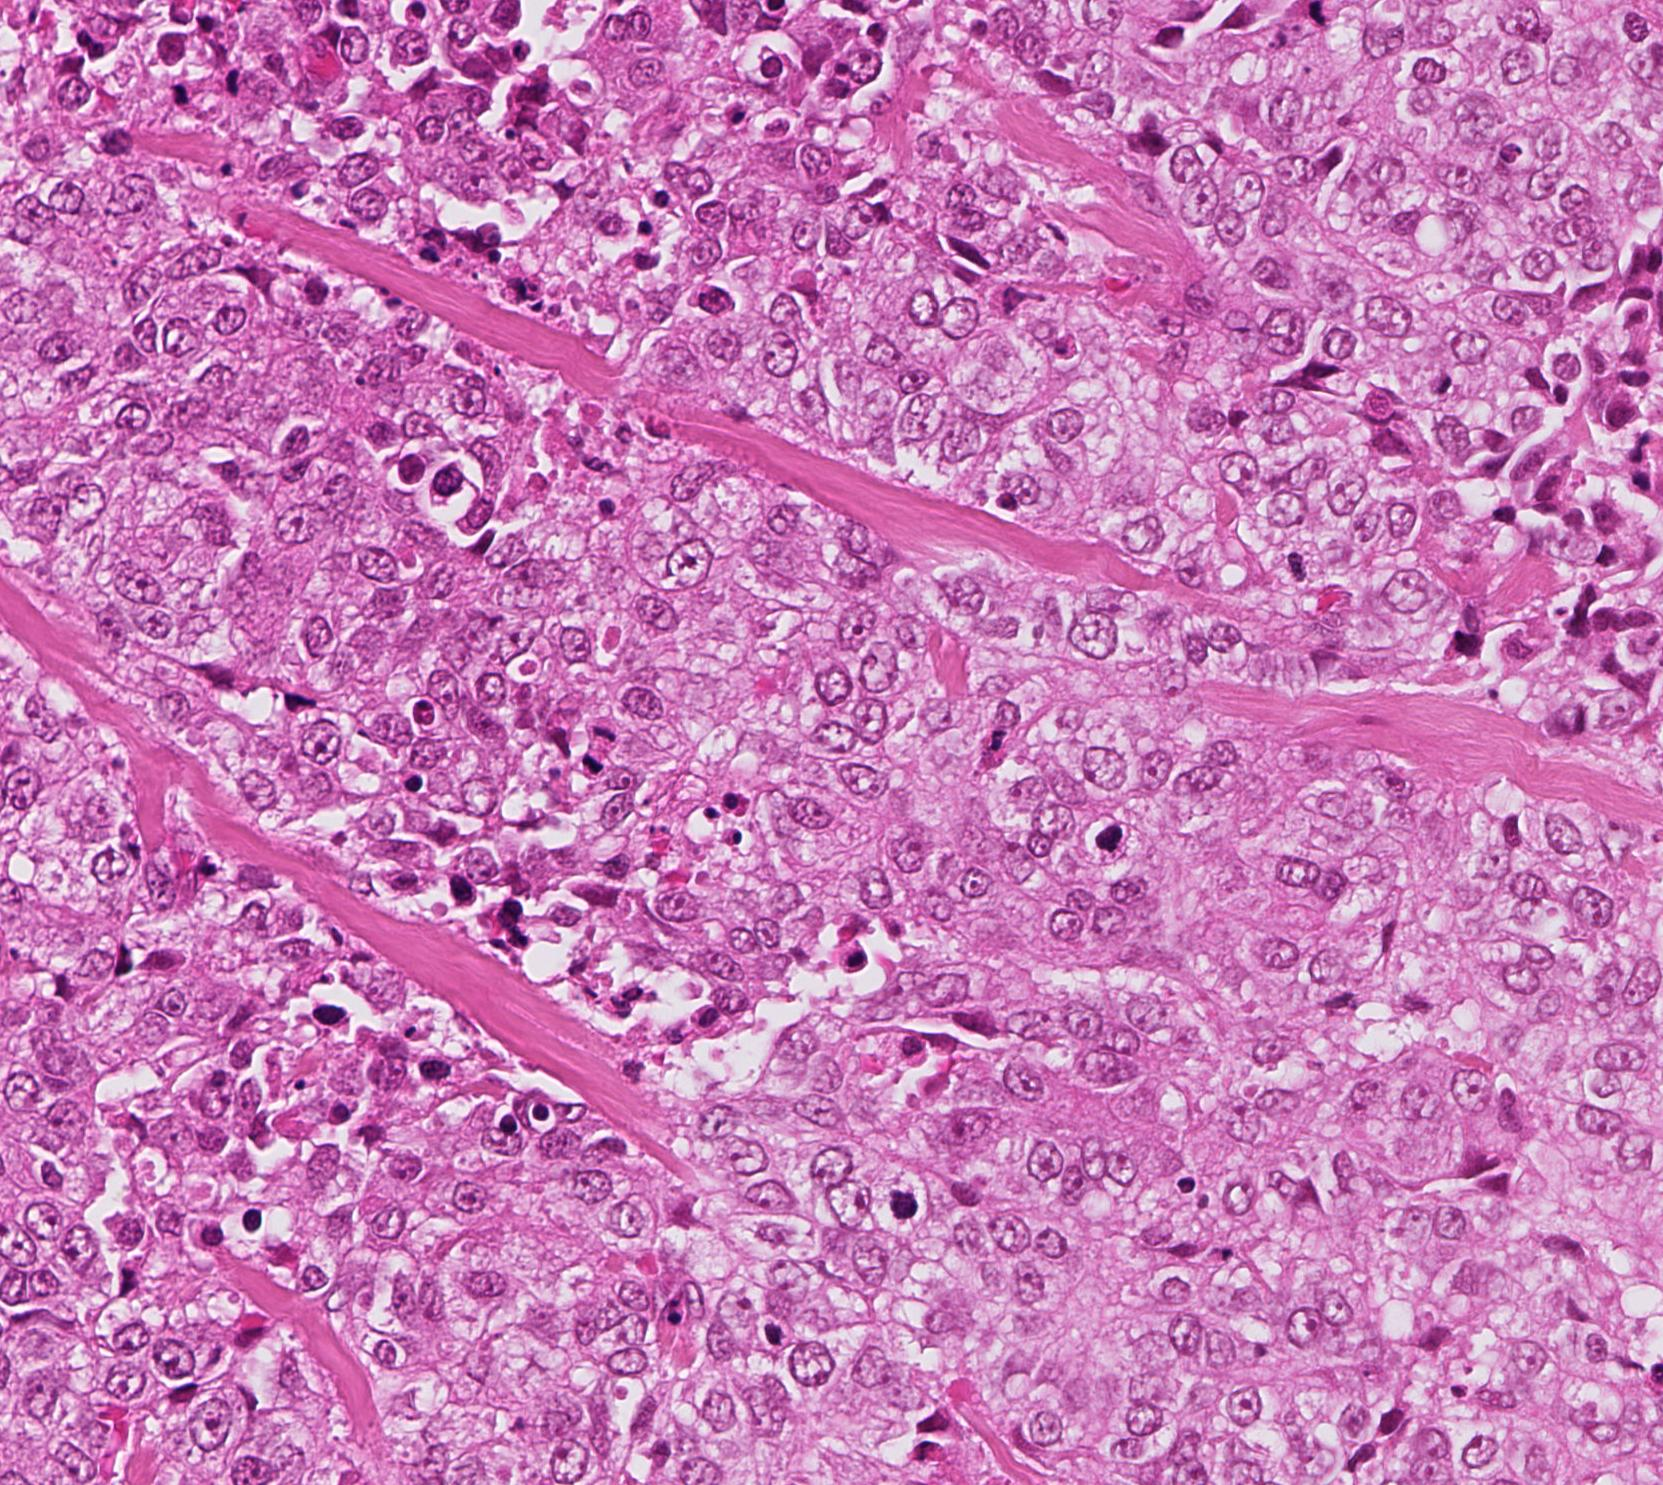mitosis: (867, 1173, 928, 1233)
